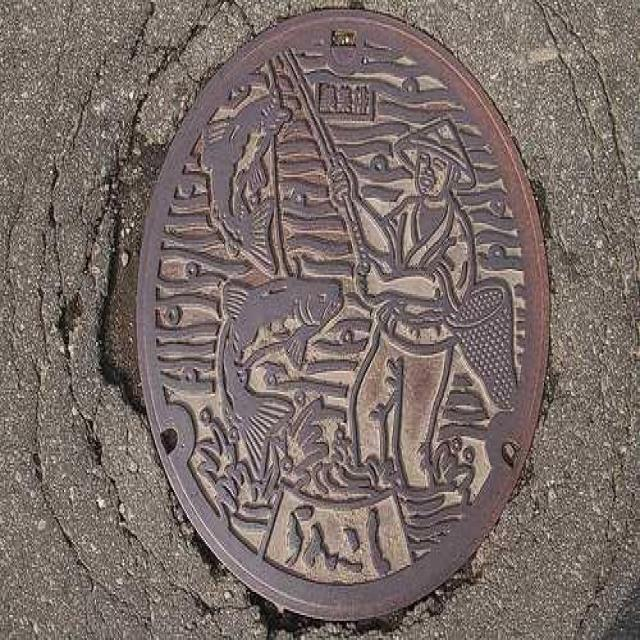manhole: (138, 9, 549, 619)
